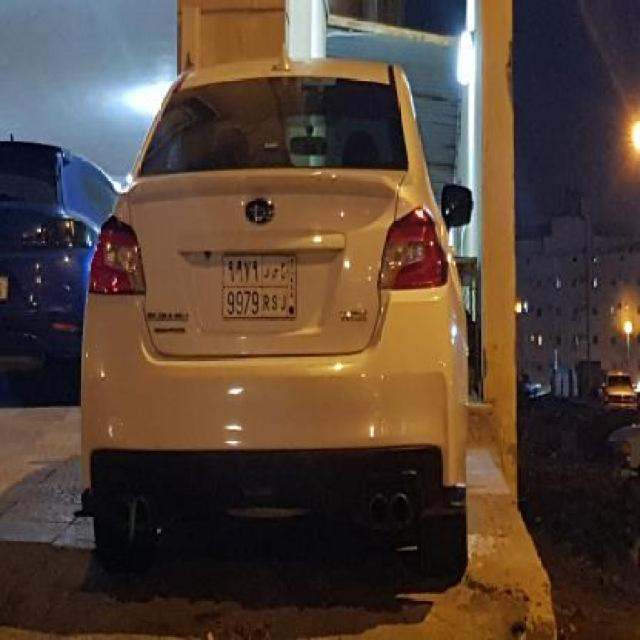license_plate: (222, 250, 298, 322)
